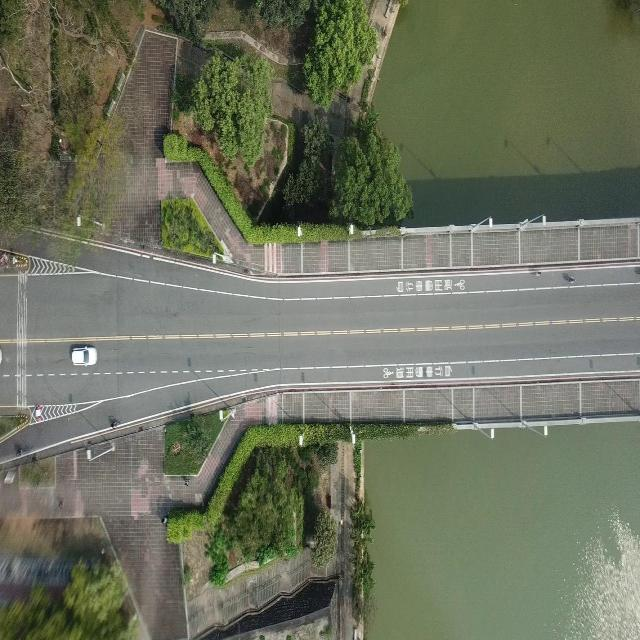car: (70, 343, 98, 367)
